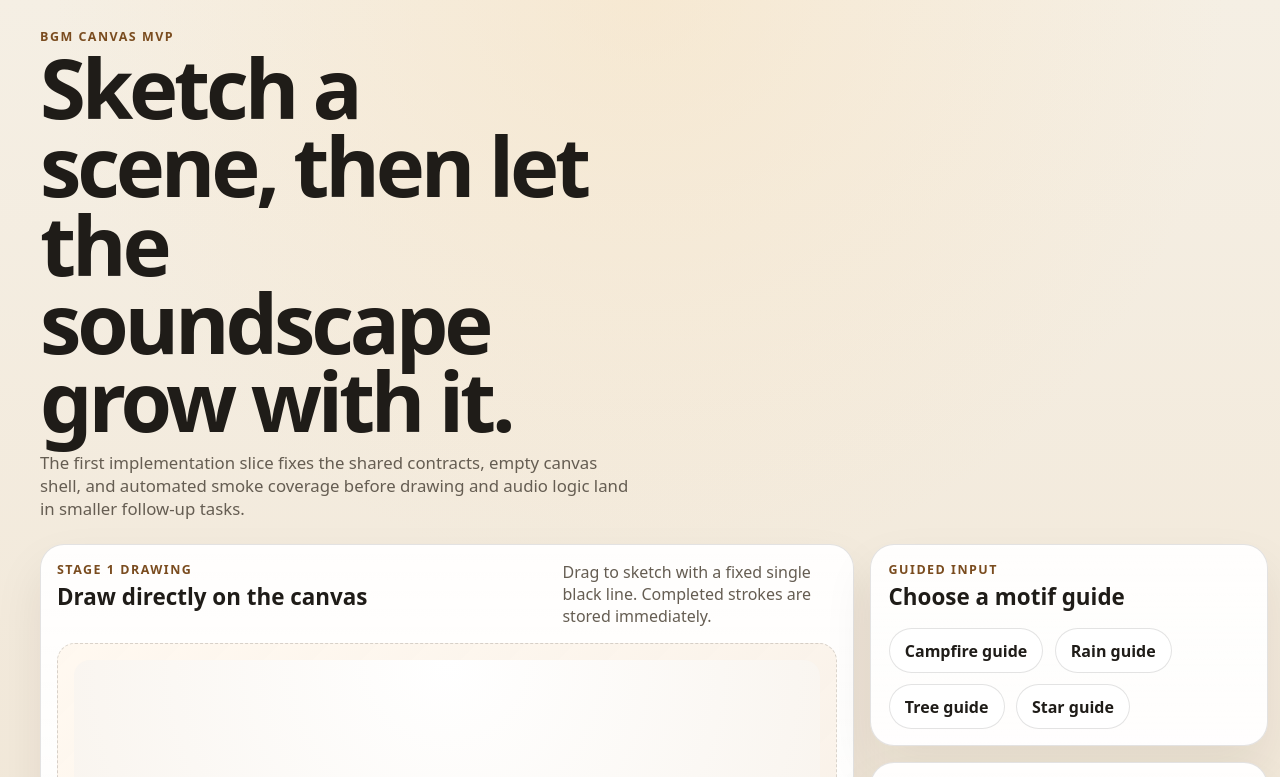
Test: App bootstrap › shows the selected guide in the status panel and canvas overlay
Click the button "Rain guide" at (1113, 651), box left=1055, top=628, right=1172, bottom=673
(page scrolled)
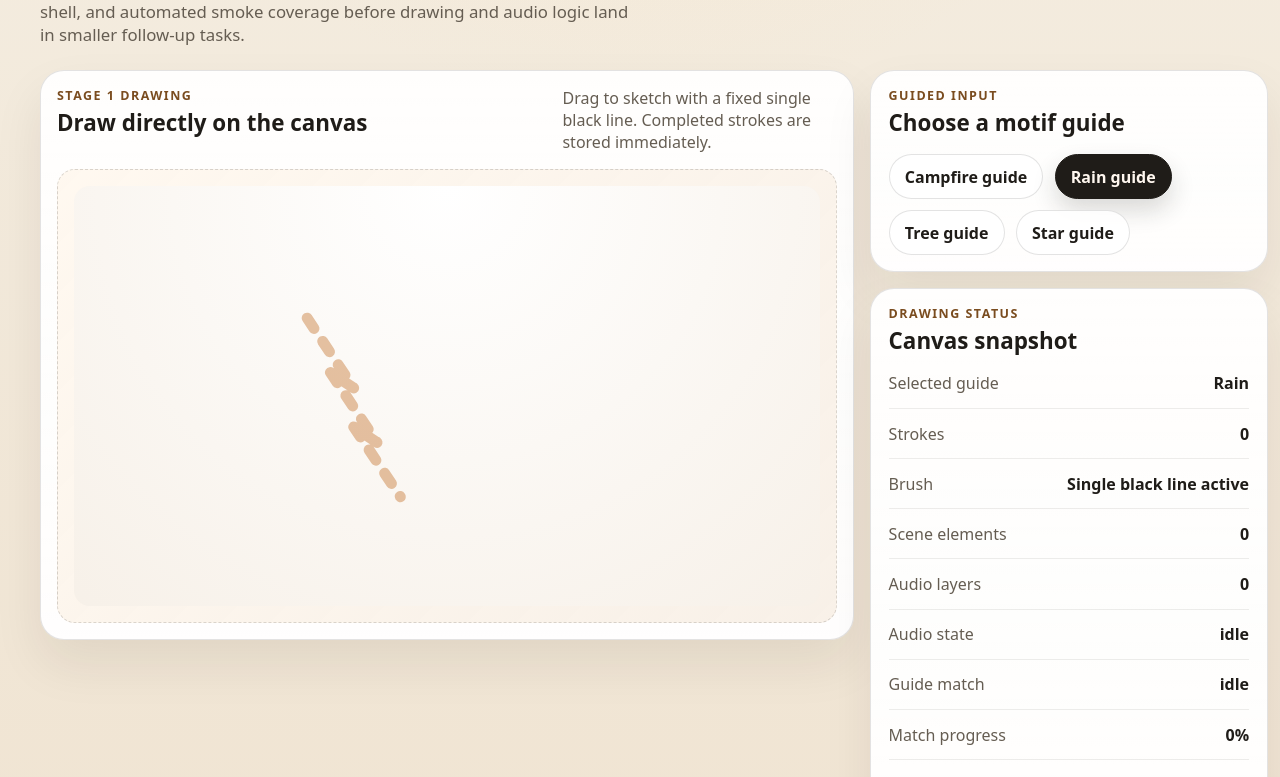
Check: the text with test id "selected-guide" reads "Rain", box left=1213, top=372, right=1249, bottom=394
Check: the icon named "rain guide overlay" is shown, box left=74, top=186, right=820, bottom=606
